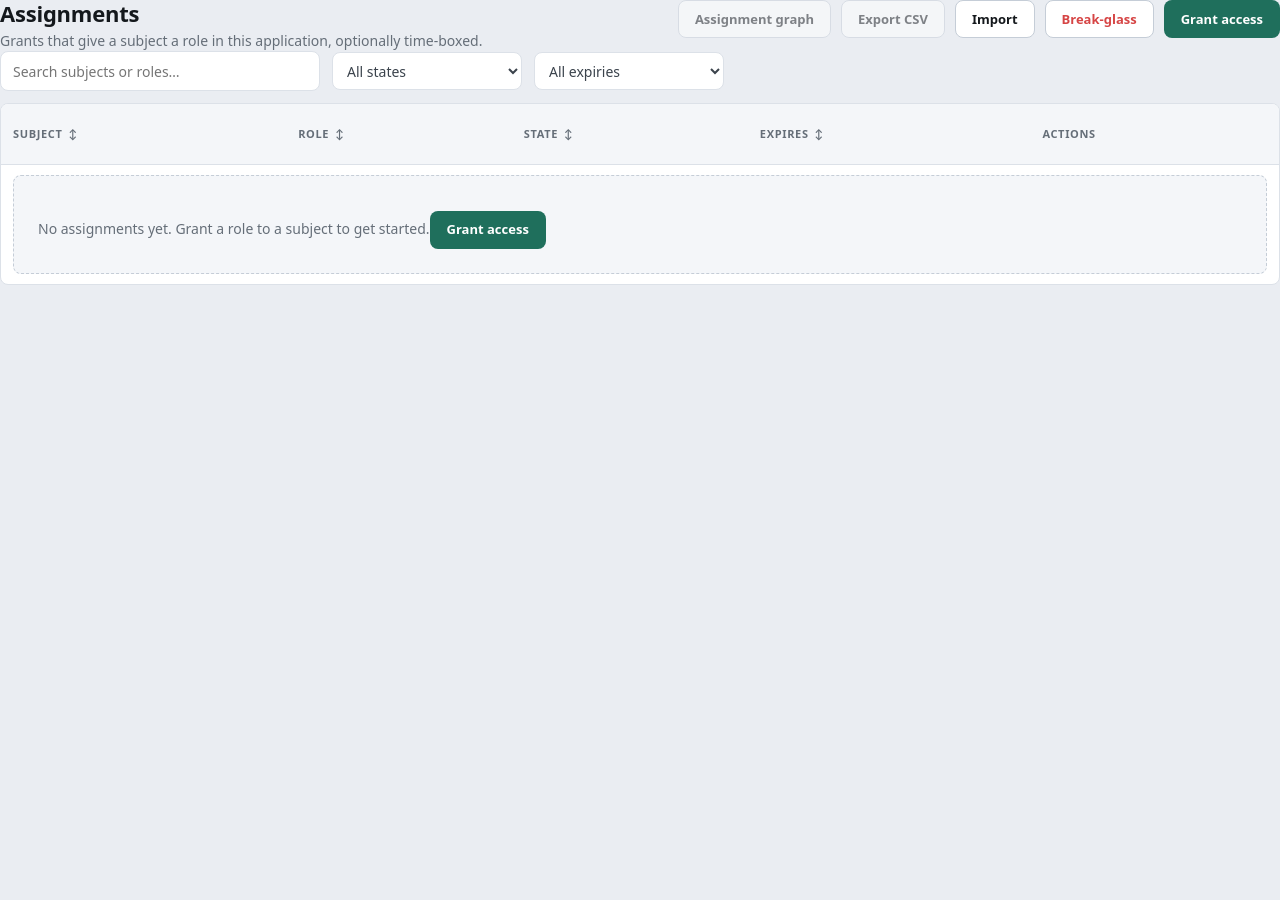
it: AccessPanel — Grant access privileged-role rules › auto-checks and disables the 'Privileged assignment' checkbox for a privileged role
The width and height of the screenshot is (1280, 900).
Click the 1st button "Grant access": (1222, 19) [1164,0,1279,38]
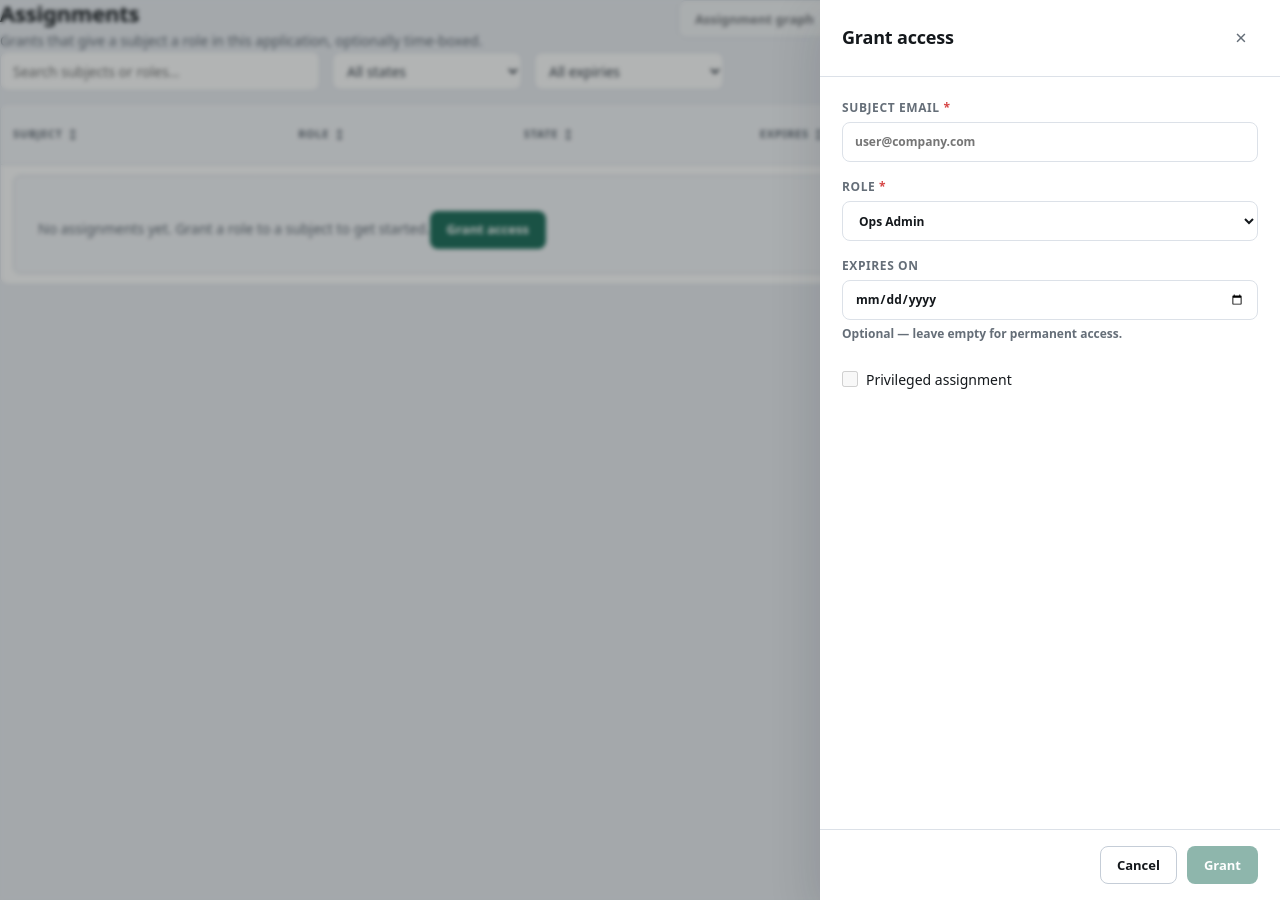
Expected: the dropdown labelled "Role *" is shown
Select "Ops Admin" in the dropdown labelled "Role *": (1050, 221) [842,201,1258,241]
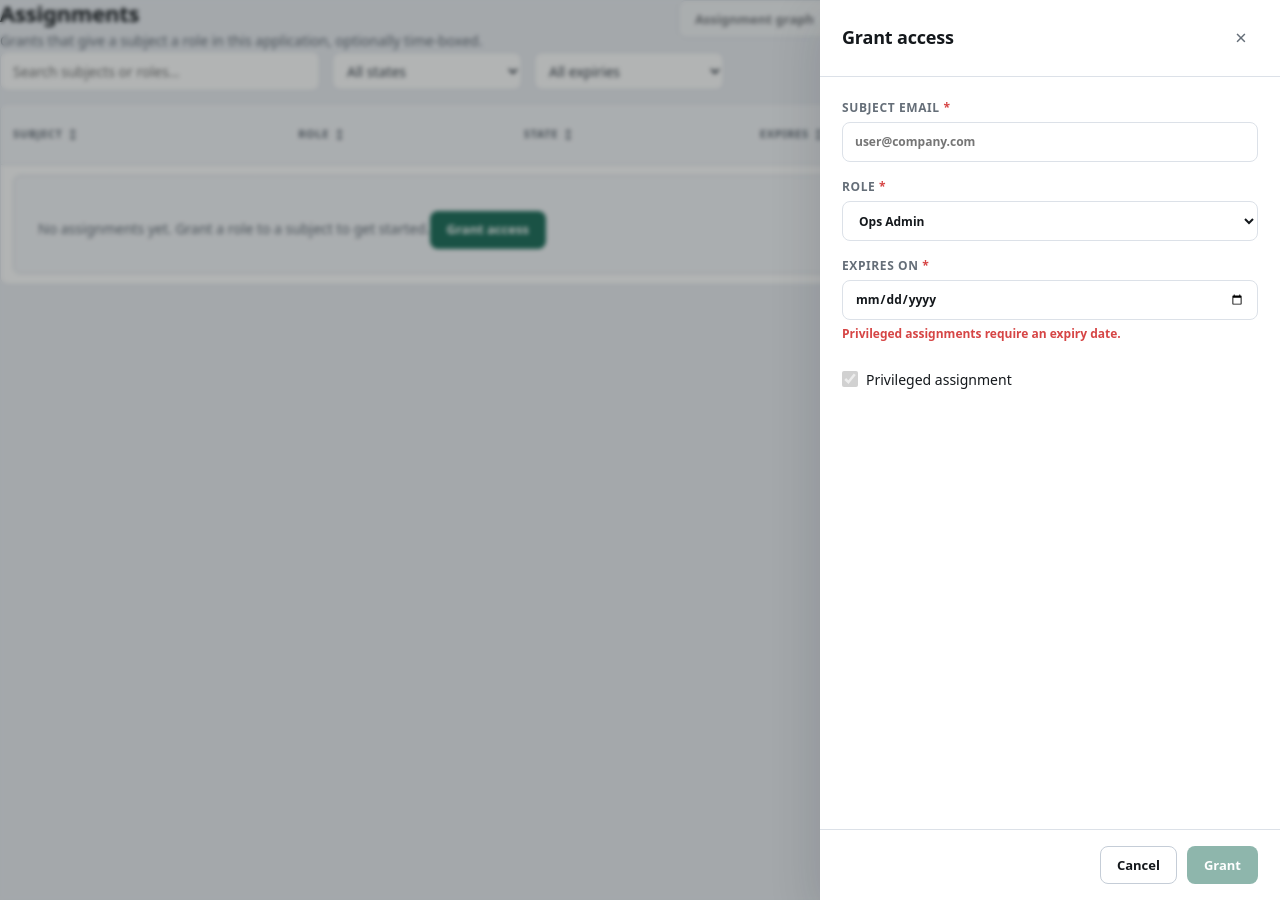
Expected: the checkbox labelled "Privileged assignment" is disabled, [842,359,858,399]
Expected: the checkbox labelled "Privileged assignment" is checked, [842,359,858,399]
